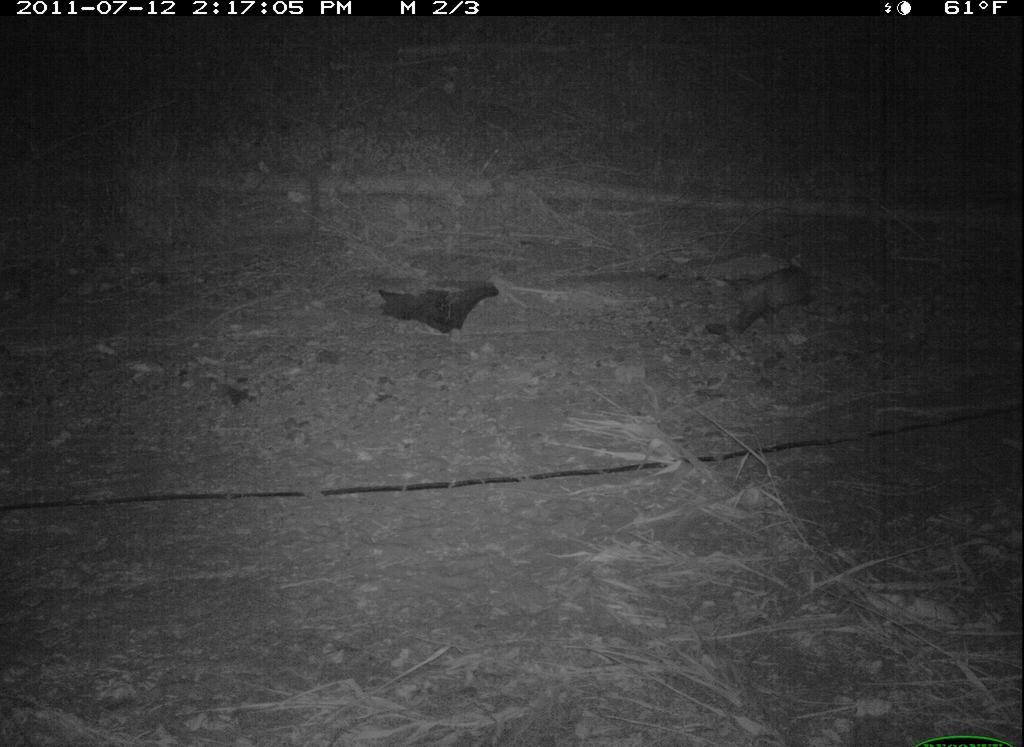opossum: (697, 262, 838, 347)
